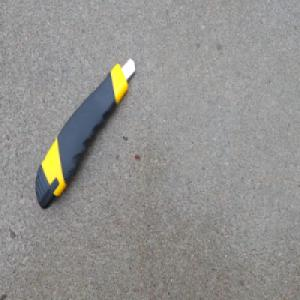Cutter: (36, 55, 137, 212)
